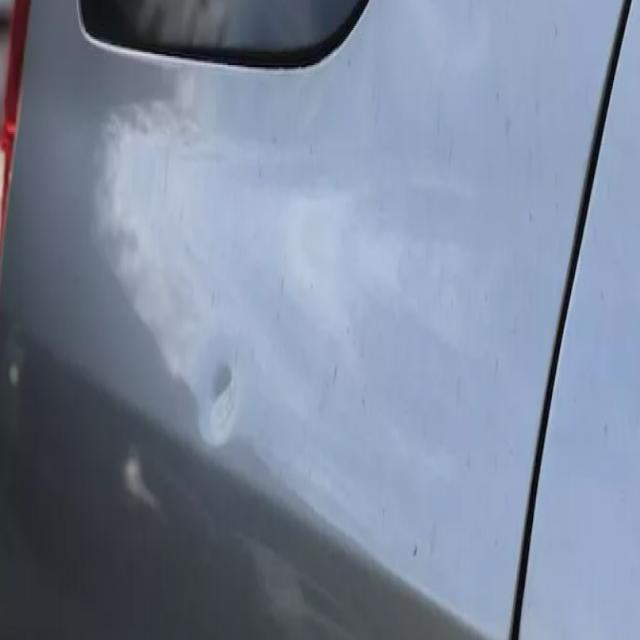dents: (196, 334, 252, 458)
